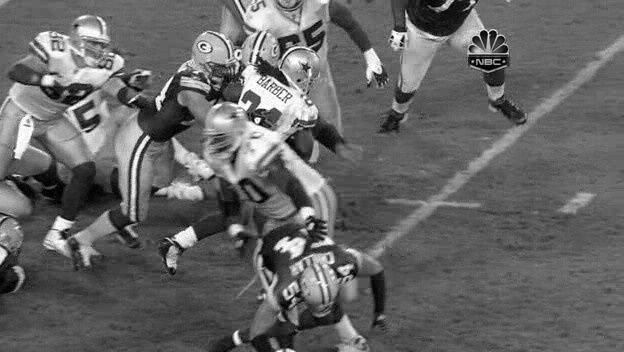person: (286, 48, 321, 92), (285, 48, 320, 92), (287, 48, 322, 92), (286, 47, 321, 91), (286, 49, 321, 93)
target_negative: (341, 183, 515, 323), (49, 195, 320, 275), (75, 291, 282, 325), (544, 226, 570, 350), (555, 117, 611, 136), (536, 242, 589, 255)
